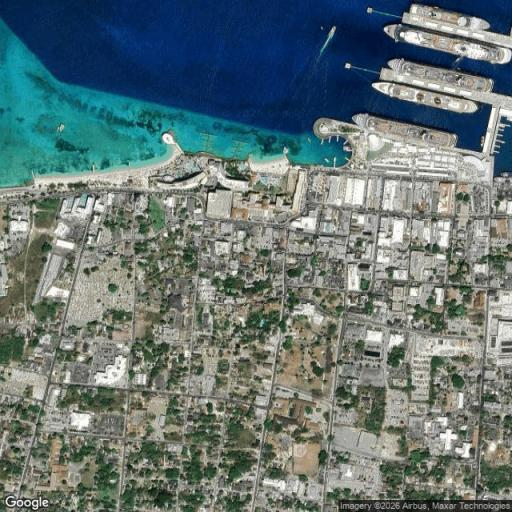ship: (382, 25, 511, 64), (351, 113, 458, 149), (390, 59, 492, 91), (372, 82, 478, 112), (410, 6, 492, 30), (328, 25, 335, 36)
